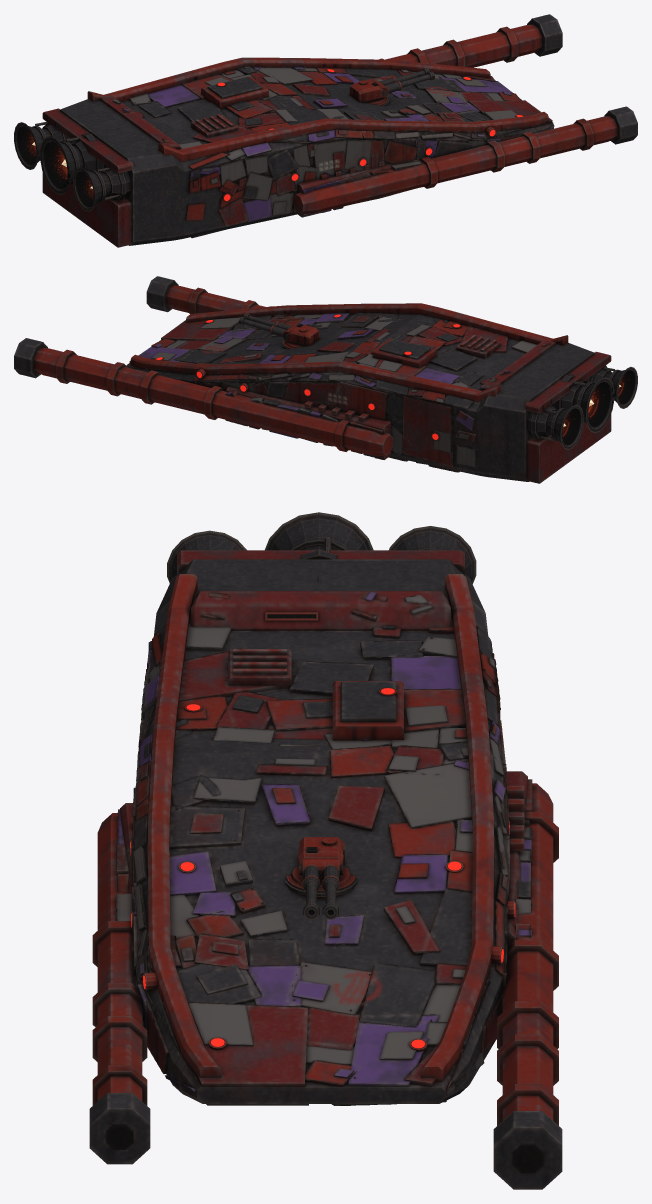
The model's file is corsair_KF1.gltf.
3 views of the same model, one above another, from view 1: azimuth 30°, elevation 25°; view 2: azimuth 150°, elevation 25°; view 3: azimuth 270°, elevation 25° (orthographic). The views are drawn at different scales.
Parts seen in each view (by area): view 1: corsair_KF1, turret_0_turn; view 2: corsair_KF1, turret_0_turn; view 3: corsair_KF1, turret_0_turn.
Part boxes in pixels (x1=…): corsair_KF1: x1=14, y1=14, x2=637, y2=247; turret_0_turn: x1=349, y1=68, x2=434, y2=102; corsair_KF1: x1=14, y1=276, x2=637, y2=483; turret_0_turn: x1=238, y1=313, x2=319, y2=345; corsair_KF1: x1=89, y1=512, x2=562, y2=1189; turret_0_turn: x1=298, y1=837, x2=344, y2=919.
Size of the model in its own units: 1 by 0.169 by 0.3889.
4 materials, 3 textured.
